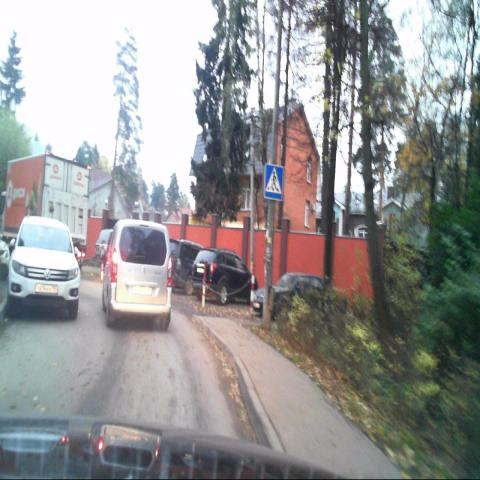5_19_1: (263, 165, 283, 200)
